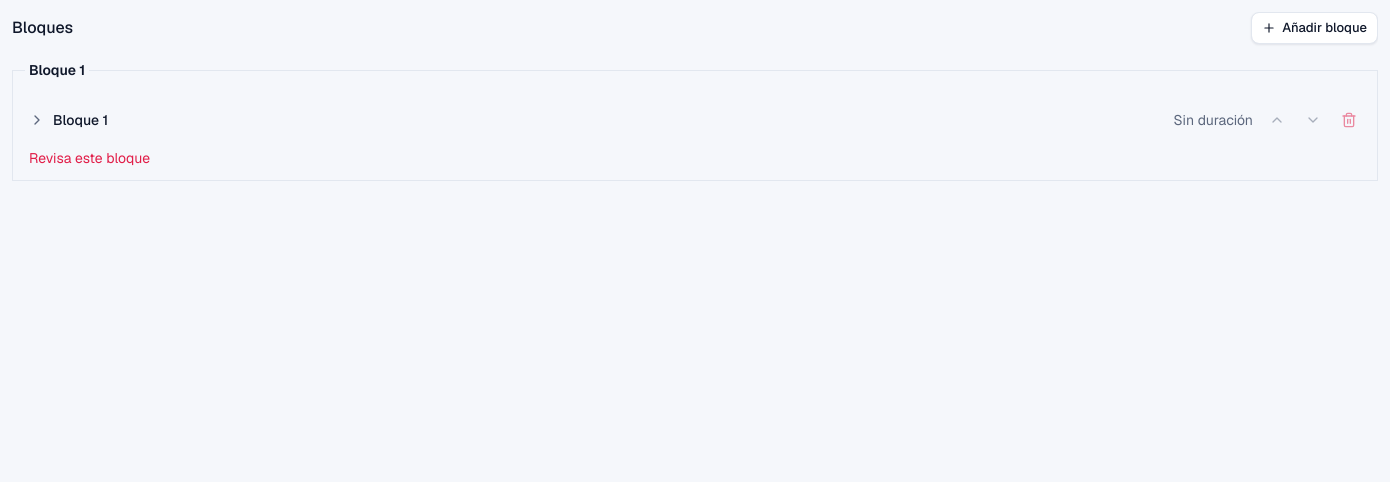
Test: SesionBloquesEditor › avisa en la cabecera cuando un bloque contraído tiene errores
Expected: the text "Revisa este bloque" is shown, [29,149,150,167]
Click the button with aria-label "expandir bloque 1". click: {"x": 81, "y": 120}
box: [25,106,1257,134]
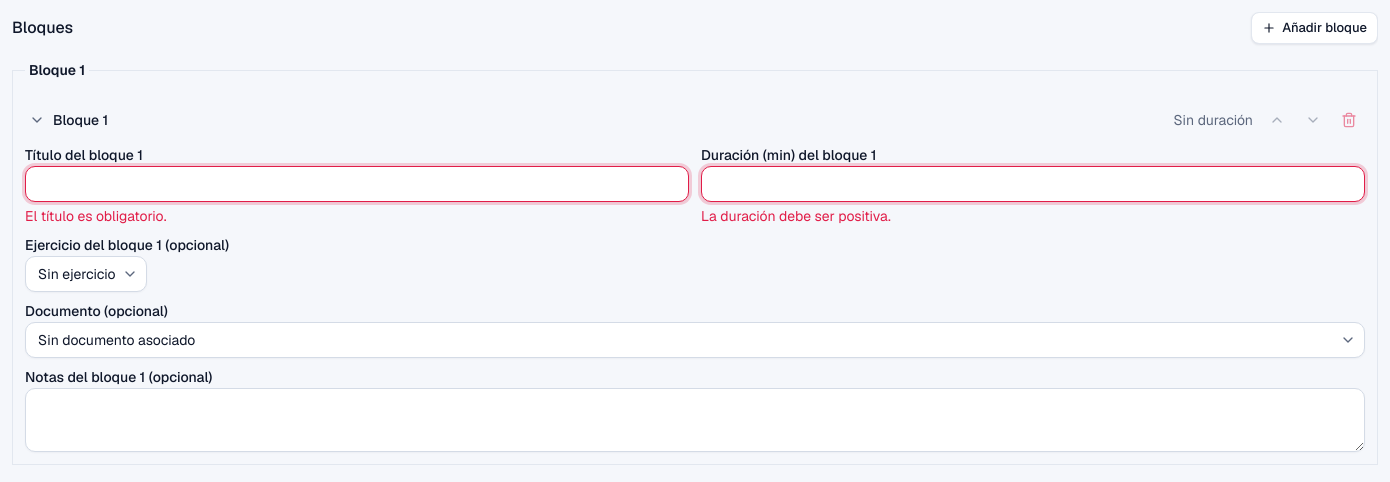
Now the text "Revisa este bloque" is gone
Now the text "El título es obligatorio." is shown, box [25,207,166,225]
